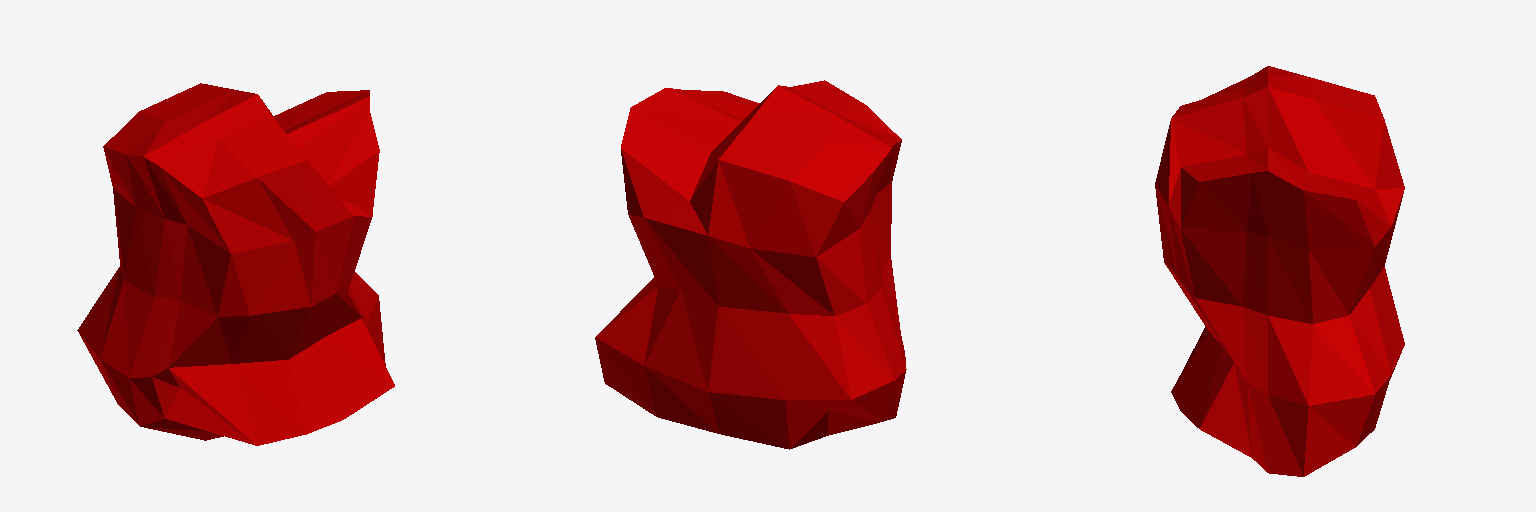
The model's file is trash1.obj.
3 views of the same model, side by side, from view 1: azimuth 30°, elevation 25°; view 2: azimuth 150°, elevation 25°; view 3: azimuth 270°, elevation 25° (orthographic).
Parts seen in each view (by area): view 1: Cube; view 2: Cube; view 3: Cube.
Part boxes in pixels (x1,y1,x2,y2): Cube: (77,83,394,445); Cube: (595,80,906,449); Cube: (1155,66,1404,476).
Bounding box in the file's own units: 1.26 × 1.43 × 0.9675.